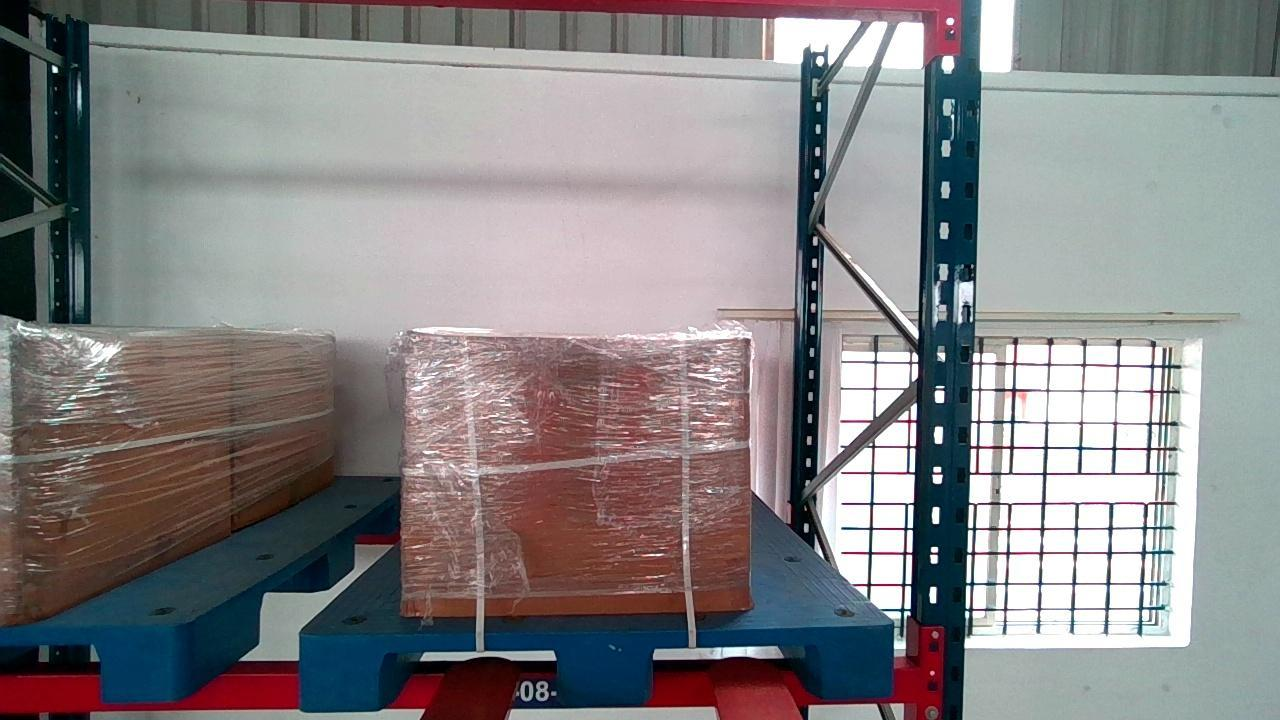small_pallet: (301, 623, 891, 709)
